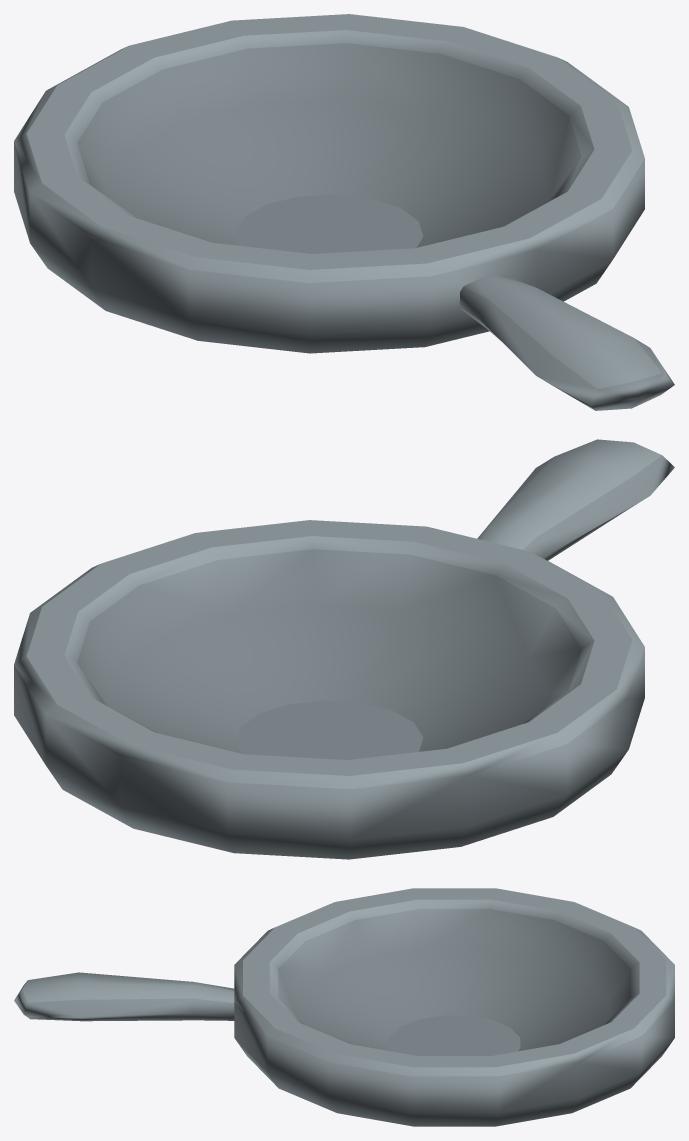
Rendered from Pan.glb.
3 renders of one model, top to bottom at view 1: azimuth 30°, elevation 25°; view 2: azimuth 150°, elevation 25°; view 3: azimuth 270°, elevation 25°, orthographic. The views are drawn at different scales.
Visible parts, largest first — view 1: pan_A; view 2: pan_A; view 3: pan_A.
Part boxes in pixels (bbox=[...]): pan_A: bbox=[14, 14, 674, 410]; pan_A: bbox=[14, 439, 674, 859]; pan_A: bbox=[14, 888, 674, 1126].
Size of the model in its own units: 1.5 by 0.2599 by 2.25.
1 material, 1 textured.
